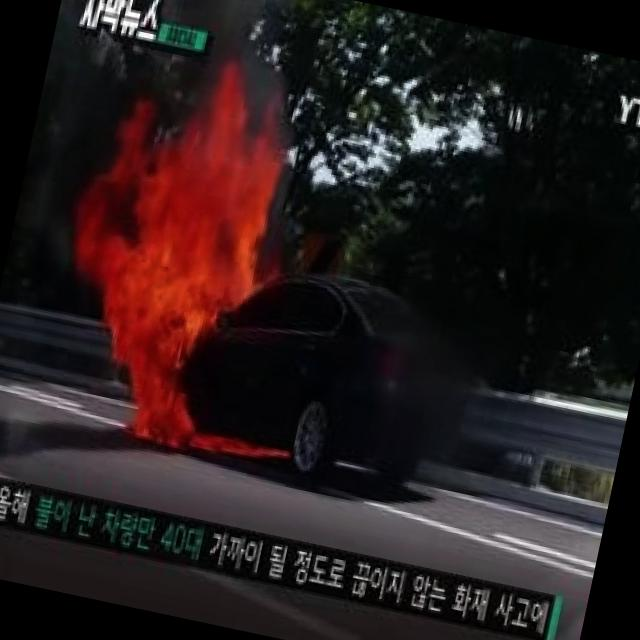fire: (65, 81, 284, 457)
